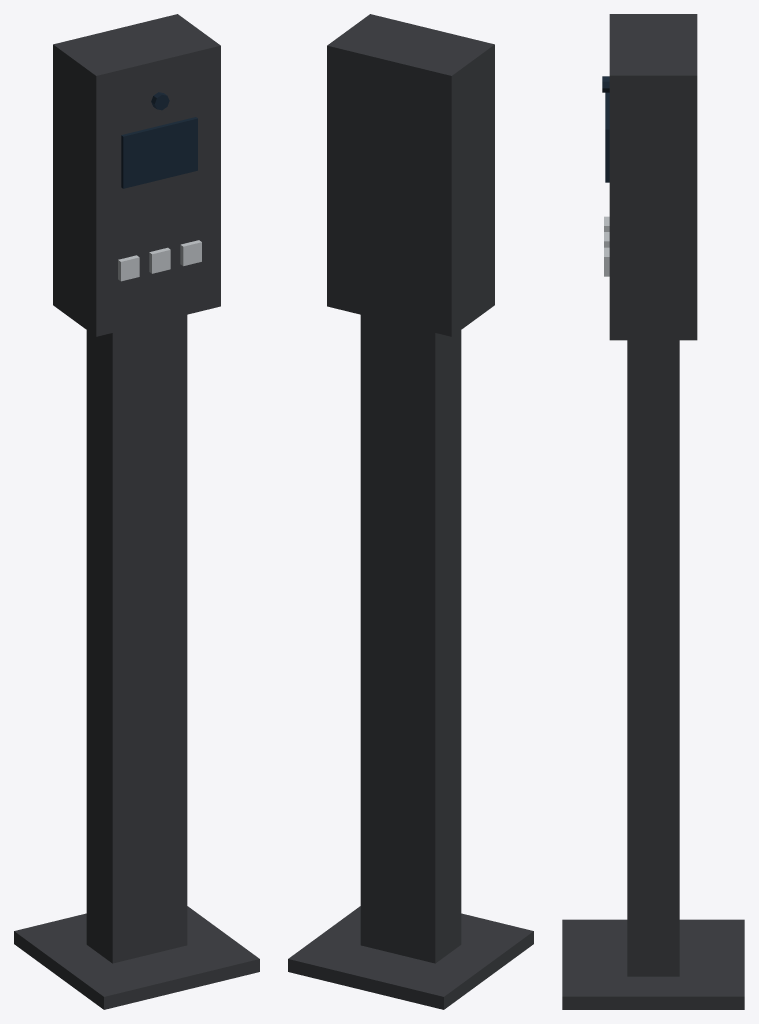
The picture shows the model from 3 angles, left to right: view 1: azimuth 30°, elevation 25°; view 2: azimuth 150°, elevation 25°; view 3: azimuth 270°, elevation 25°; orthographic projection.
Parts seen in each view (by area): view 1: baseOffset=0;depth=0.12;height=1.4;material=steel_dark;power (×3); view 2: baseOffset=0;depth=0.12;height=1.4;material=steel_dark;power; view 3: baseOffset=0;depth=0.12;height=1.4;material=steel_dark;power (×2).
Part boxes in pixels (x1,y1,x2,y2): baseOffset=0;depth=0.12;height=1.4;material=steel_dark;power (×3): (14,14,259,1009); baseOffset=0;depth=0.12;height=1.4;material=steel_dark;power: (288,14,533,1009); baseOffset=0;depth=0.12;height=1.4;material=steel_dark;power (×2): (562,14,744,1009).
Bounding box in the file's own units: 0.25 × 0.25 × 1.4.
